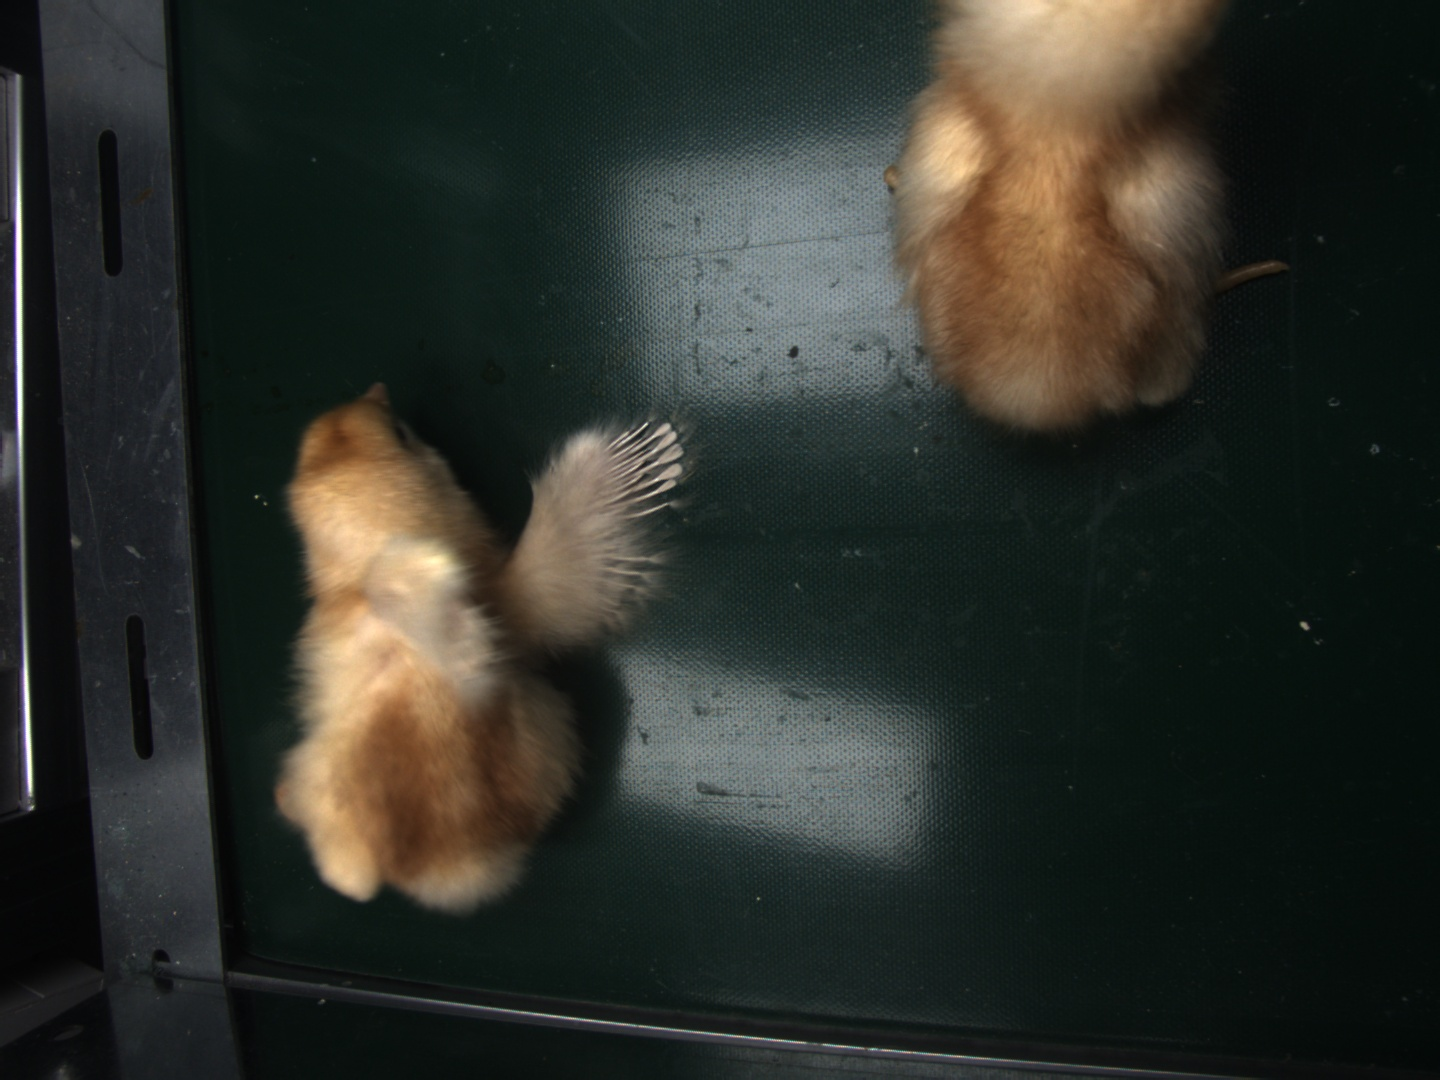female: (603, 419, 685, 511)
